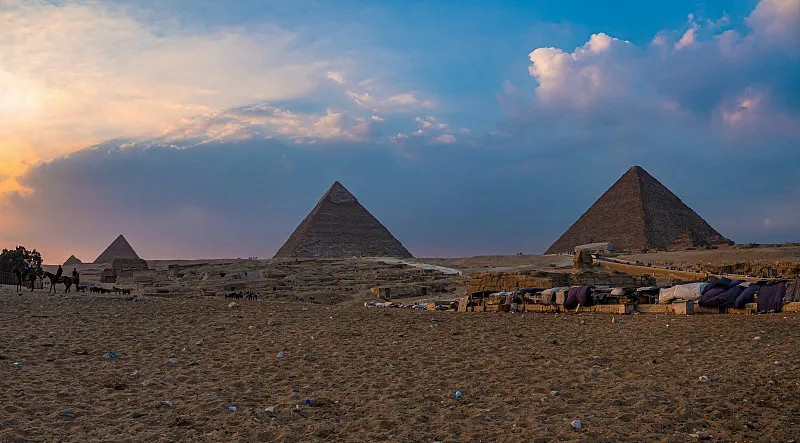Pyramid: (544, 165, 739, 252), (272, 181, 419, 259), (93, 235, 144, 265), (62, 254, 83, 264)
